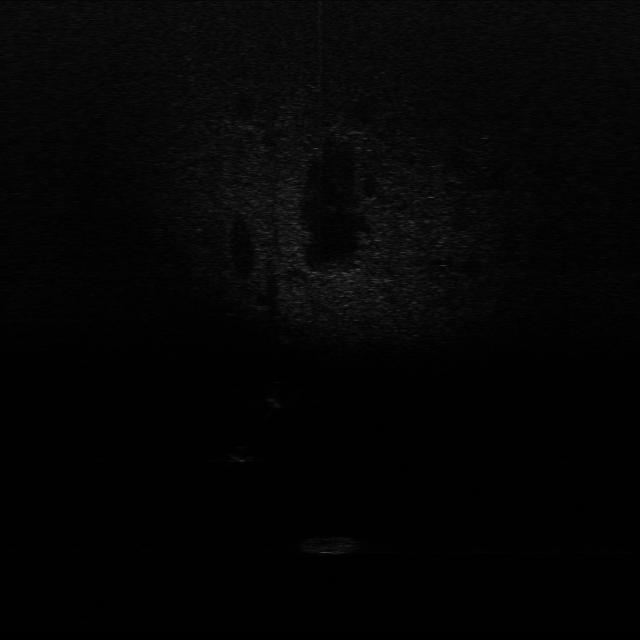ball: (230, 444, 254, 465)
circle cage: (298, 529, 366, 559)
human body: (262, 376, 296, 412)
